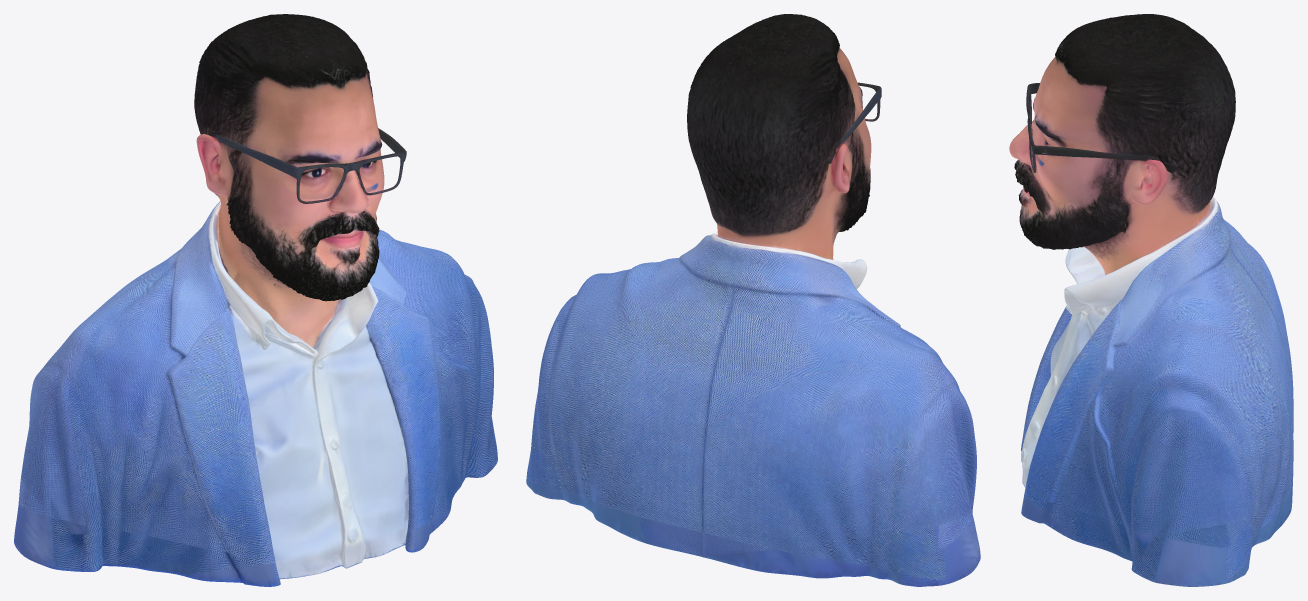
Rendered from jonatas.min.glb.
The picture shows the model from 3 angles, left to right: view 1: azimuth 30°, elevation 25°; view 2: azimuth 150°, elevation 25°; view 3: azimuth 270°, elevation 25°; orthographic projection. The views are drawn at different scales.
Parts seen in each view (by area): view 1: mesh_node; view 2: mesh_node; view 3: mesh_node.
Part boxes in pixels (bbox=[...]): mesh_node: bbox=[14, 14, 497, 586]; mesh_node: bbox=[526, 14, 980, 586]; mesh_node: bbox=[1009, 14, 1293, 586].
Size of the model in its own units: 1.84 by 1.9 by 1.06.
Materials: 1 (1 with a texture image).
